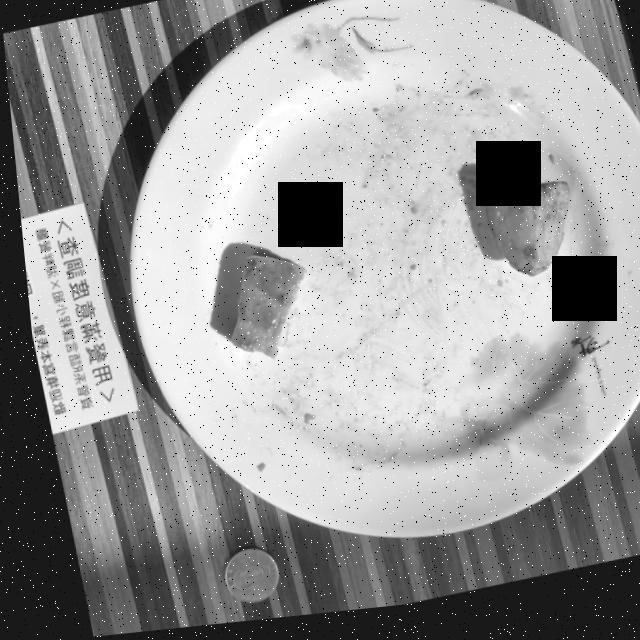coin: (212, 551, 266, 606)
creamy tofu: (223, 258, 299, 362)
fried potato: (478, 191, 564, 286)
